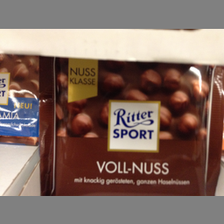chocolate: (38, 55, 224, 196)
